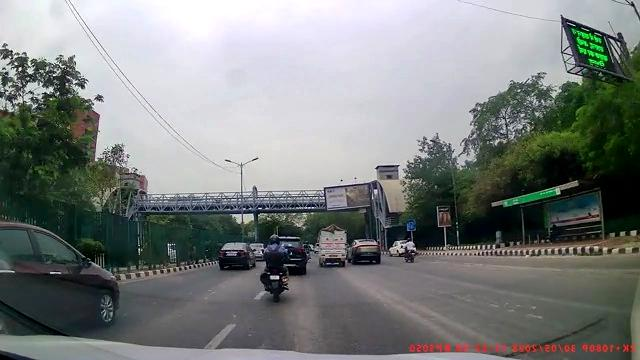motorcycle_with_helmet: (259, 232, 291, 301)
